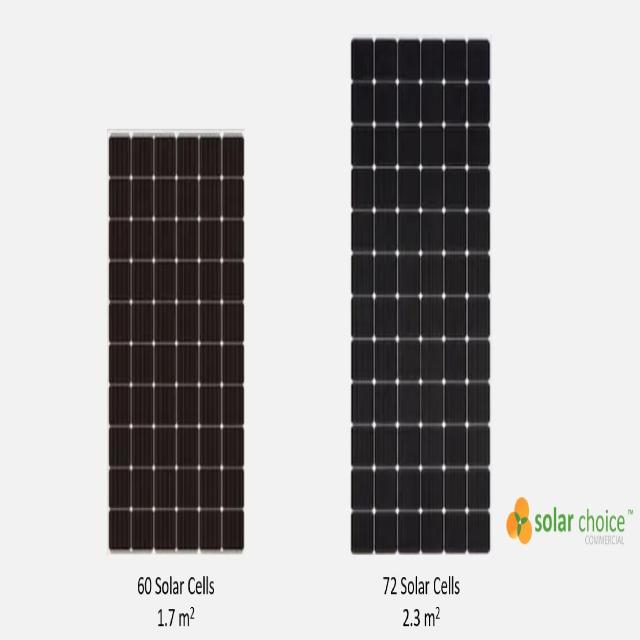clean-solar-panel: (155, 304, 175, 341)
